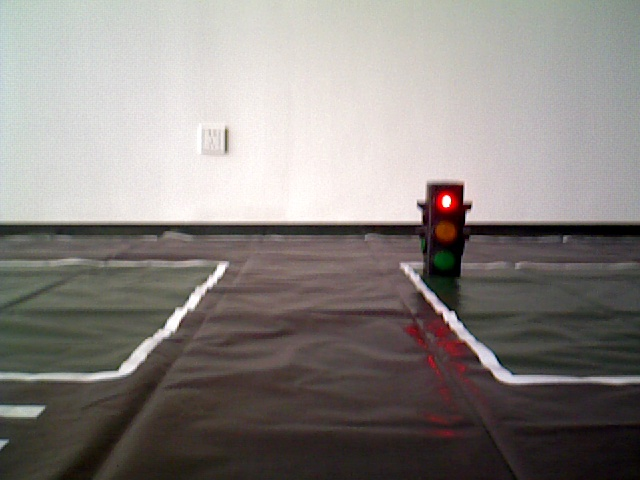red: (425, 185, 463, 274)
